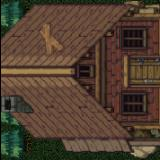Obstacle: (34, 1, 160, 160), (0, 127, 32, 160)
